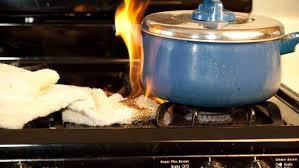fire: (112, 0, 148, 93)
